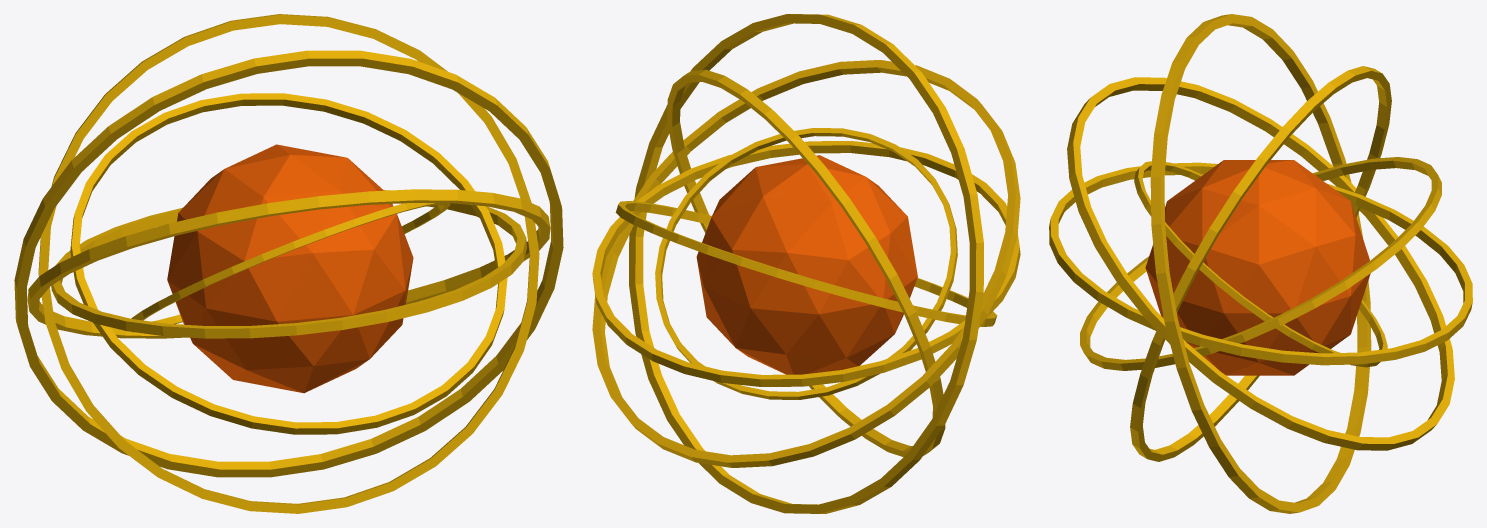
File: miniboss.fbx
3 views of the same model, side by side, from view 1: azimuth 30°, elevation 25°; view 2: azimuth 150°, elevation 25°; view 3: azimuth 270°, elevation 25° (orthographic). The views are drawn at different scales.
Parts seen in each view (by area): view 1: Miniboss; view 2: Miniboss; view 3: Miniboss.
Part boxes in pixels (x1,y1,x2,y2): Miniboss: [14, 14, 563, 513]; Miniboss: [592, 14, 1020, 513]; Miniboss: [1049, 14, 1472, 513].
Bounding box in the file's own units: 1360 × 1372 × 1199.
